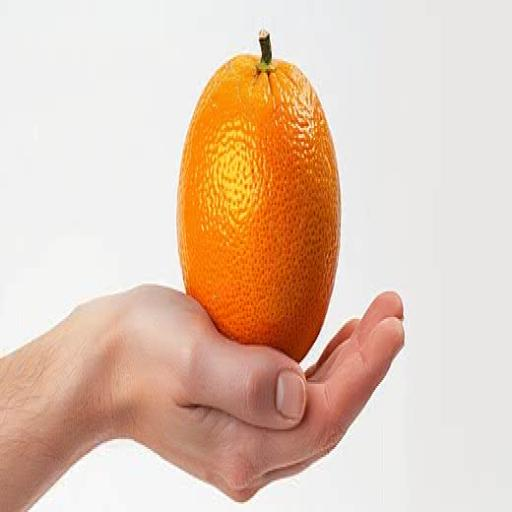orange: (178, 32, 340, 360)
